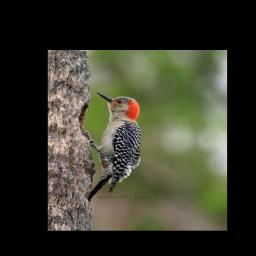Woodpecker: (84, 88, 148, 208)
